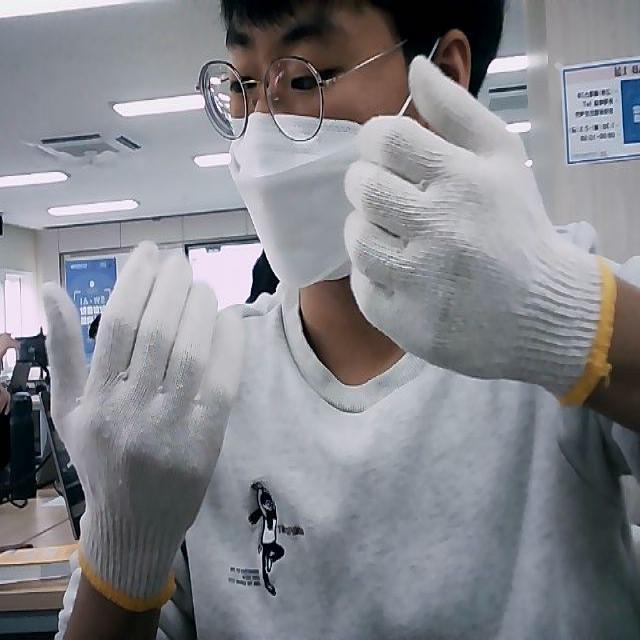gloves: (340, 56, 616, 410), (38, 238, 248, 606)
goggles: (193, 39, 385, 143)
